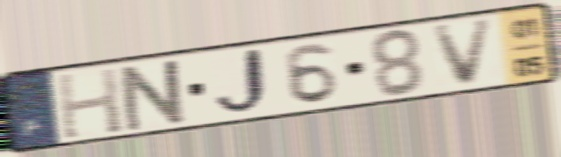6: (283, 41, 342, 107)
8: (368, 26, 428, 101)
H: (54, 65, 126, 142)
J: (210, 44, 273, 119)
N: (118, 55, 191, 135)
V: (429, 14, 499, 90)
